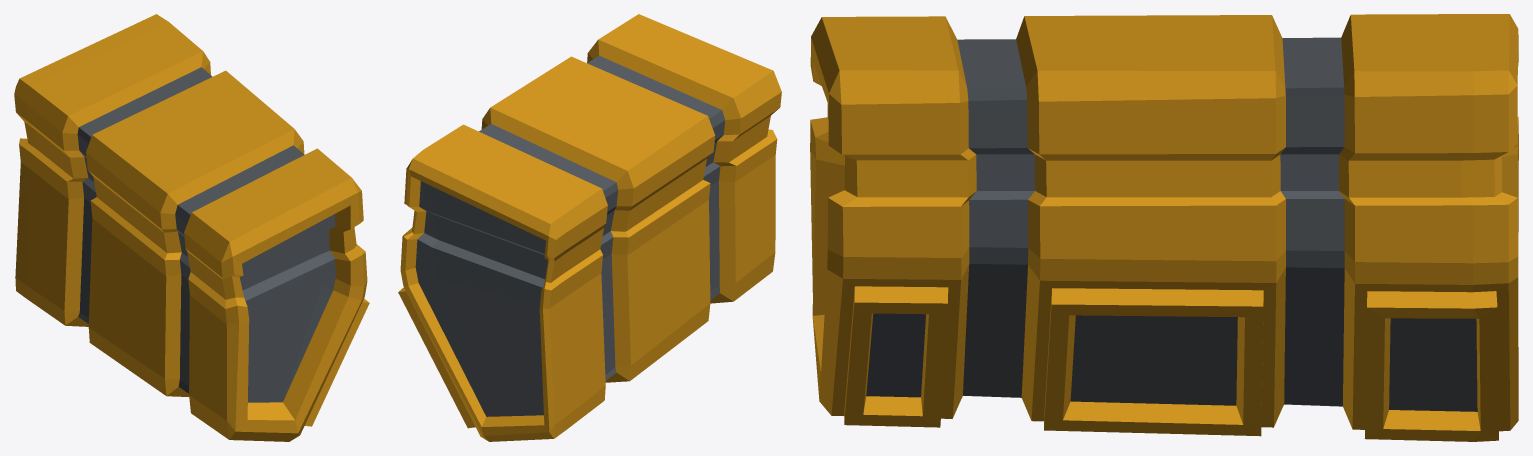
File: Fighter_10_Engine_Left_Yellow.fbx
The picture shows the model from 3 angles, left to right: view 1: azimuth 30°, elevation 25°; view 2: azimuth 150°, elevation 25°; view 3: azimuth 270°, elevation 25°; orthographic projection. The views are drawn at different scales.
Parts seen in each view (by area): view 1: Fighter_10_Engine_Left_Yellow; view 2: Fighter_10_Engine_Left_Yellow; view 3: Fighter_10_Engine_Left_Yellow.
Boxes of the visible parts, x1=… form: Fighter_10_Engine_Left_Yellow: x1=14, y1=14, x2=369, y2=441; Fighter_10_Engine_Left_Yellow: x1=398, y1=14, x2=781, y2=441; Fighter_10_Engine_Left_Yellow: x1=810, y1=14, x2=1518, y2=441.
Bounding box in the file's own units: 403 × 595 × 912.
2 materials, 2 textured.
